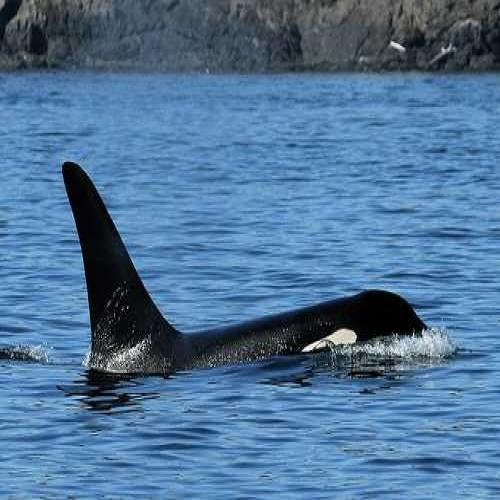killer_whale-endangered: (54, 143, 432, 403)
